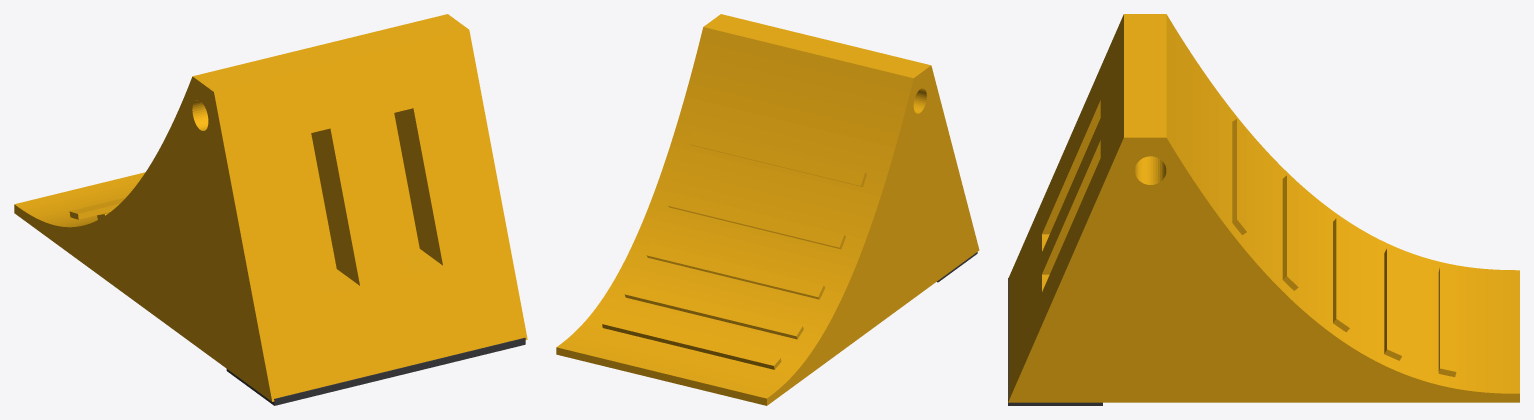
The model's file is unterlegekeil_radkeil_v34455.glb.
3 views of the same model, side by side, from view 1: azimuth 30°, elevation 25°; view 2: azimuth 150°, elevation 25°; view 3: azimuth 270°, elevation 25° (orthographic). The views are drawn at different scales.
Visible parts, largest first — view 1: Radkeil_gelb, Pad_schwarz; view 2: Radkeil_gelb; view 3: Radkeil_gelb, Pad_schwarz.
Boxes of the visible parts, x1,y1,x2,y2 form: Radkeil_gelb: [14, 14, 527, 401]; Pad_schwarz: [226, 337, 525, 405]; Radkeil_gelb: [556, 14, 979, 405]; Radkeil_gelb: [1008, 14, 1519, 402]; Pad_schwarz: [1008, 278, 1102, 405].
Bounding box in the file's own units: 0.24 × 0.244 × 0.42.
